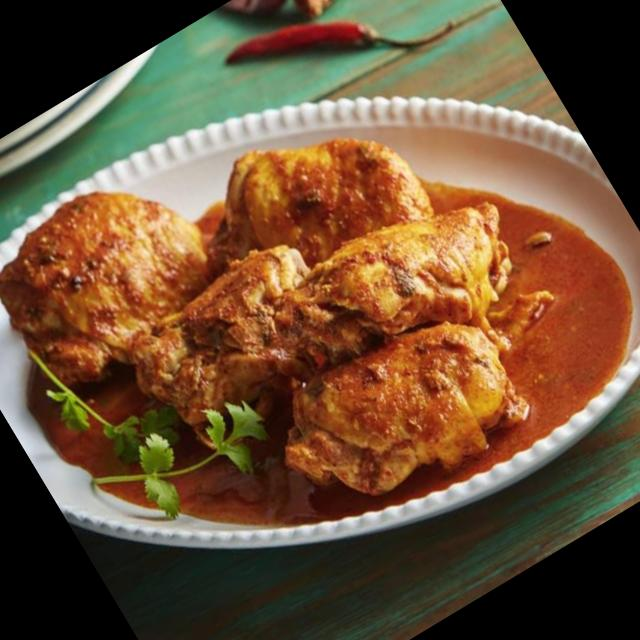chicken: (0, 18, 637, 591)
